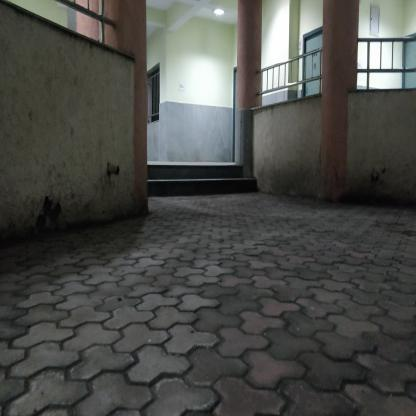stairs: (149, 163, 245, 198)
